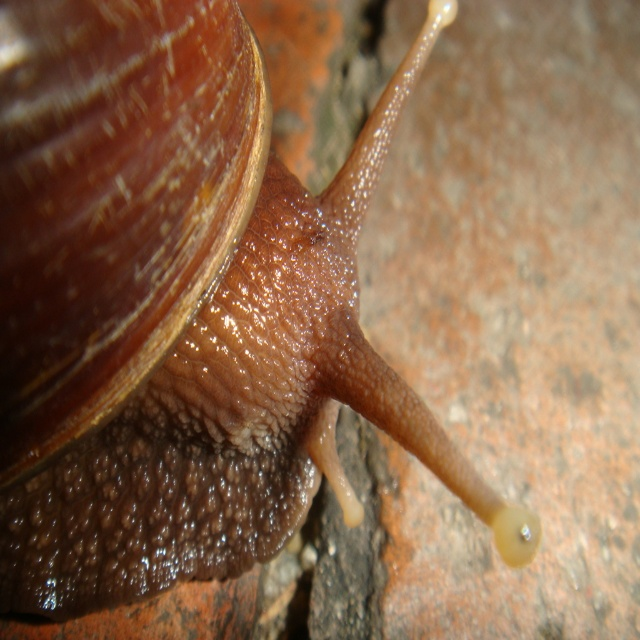Snail: (0, 0, 540, 624)
